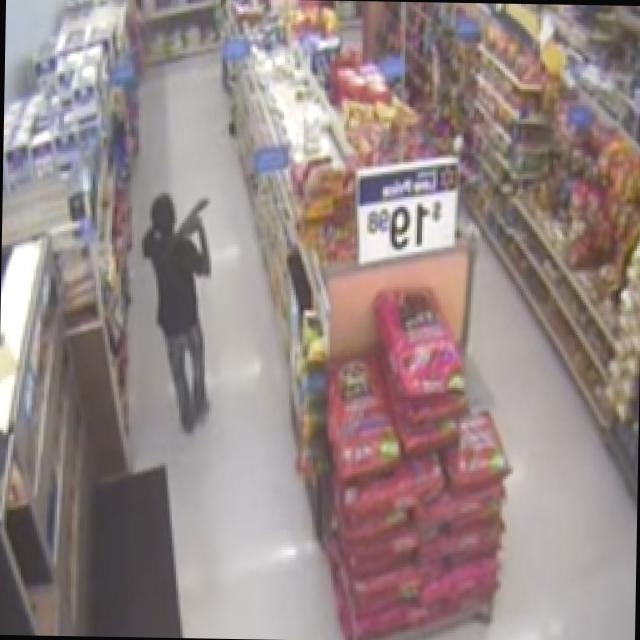person: (138, 192, 212, 433)
